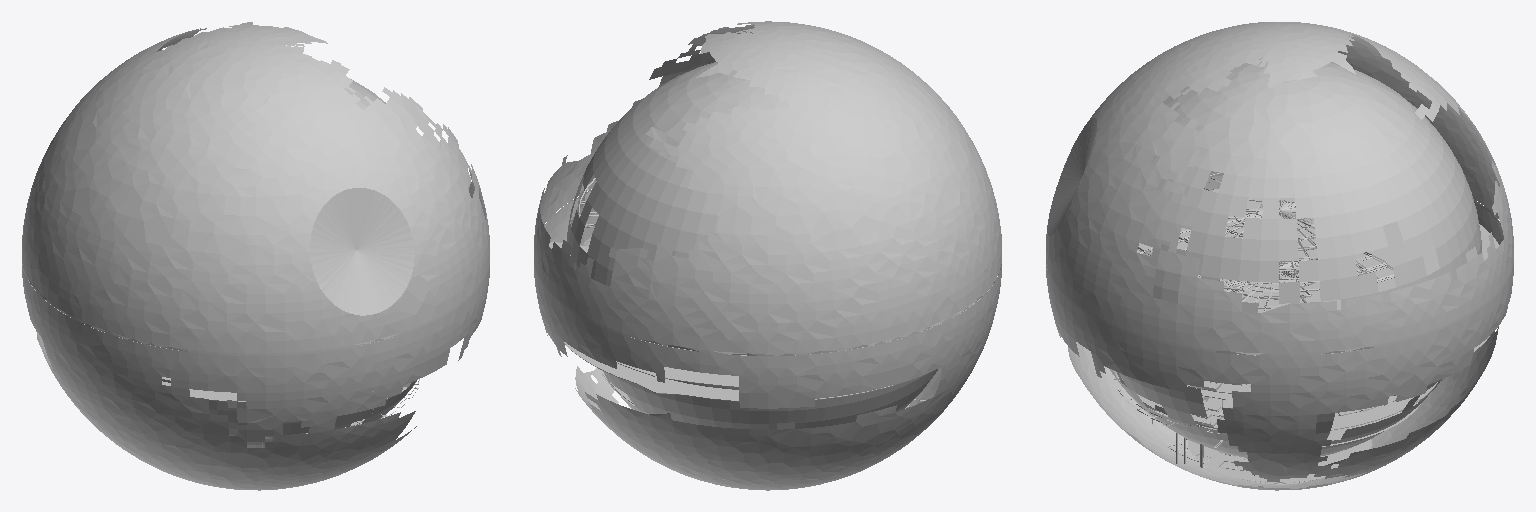
File: deathstar.obj
The picture shows the model from 3 angles: view 1: azimuth 30°, elevation 25°; view 2: azimuth 150°, elevation 25°; view 3: azimuth 270°, elevation 25°; orthographic projection.
Visible parts, largest first — view 1: deathstar; view 2: deathstar; view 3: deathstar.
Part boxes in pixels (bbox=[...]): deathstar: bbox=[22, 22, 489, 490]; deathstar: bbox=[534, 21, 1001, 490]; deathstar: bbox=[1046, 22, 1513, 490].
Size of the model in its own units: 79.31 by 79.4 by 79.37.